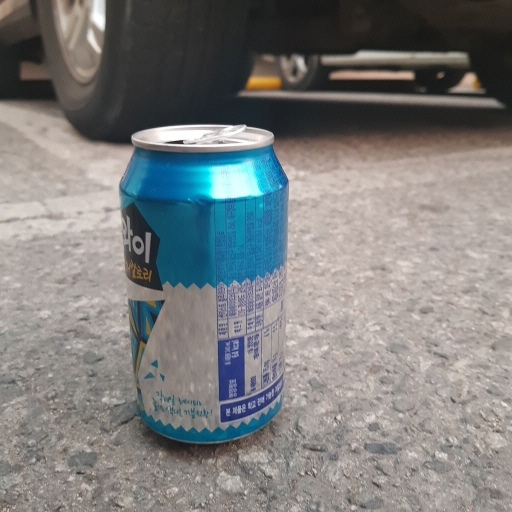Metal_0: (117, 120, 289, 444)
